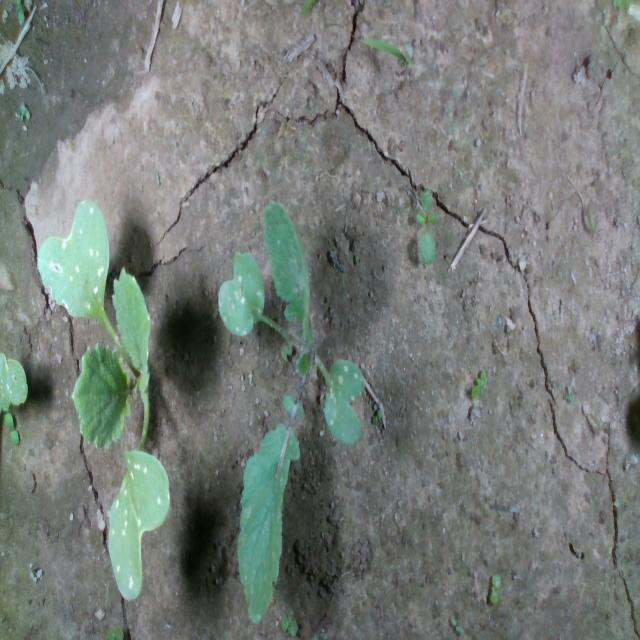weed: (470, 365, 488, 400), (3, 410, 20, 445), (279, 612, 298, 638), (489, 572, 501, 606), (448, 614, 466, 636)
